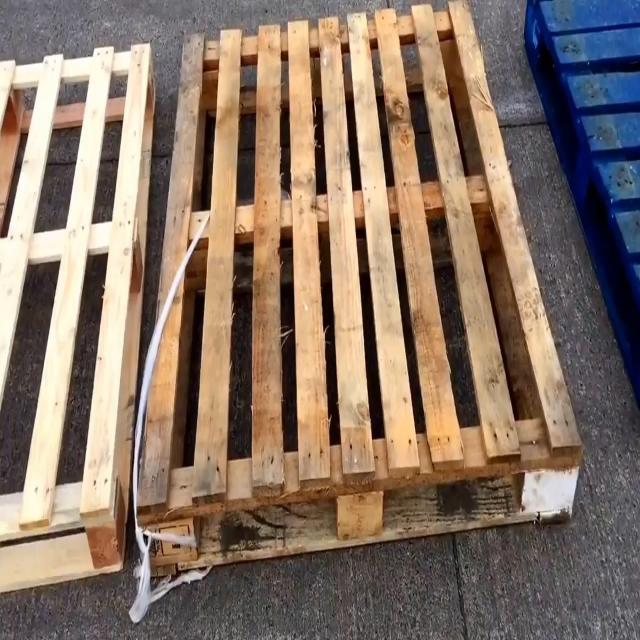Palette: (139, 0, 583, 585), (0, 35, 162, 597), (522, 0, 640, 427)
